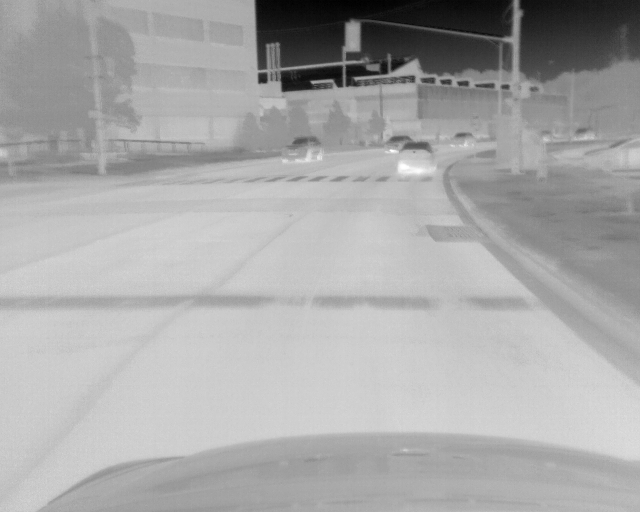car: (585, 135, 640, 175), (395, 141, 434, 179), (279, 136, 323, 167), (381, 135, 410, 153), (449, 132, 475, 148)
